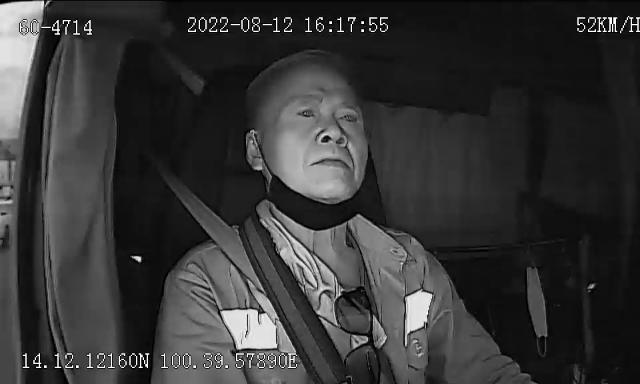SafeDriving: (290, 97, 323, 126), (331, 102, 365, 128)
Seatbelt: (177, 188, 356, 384)
